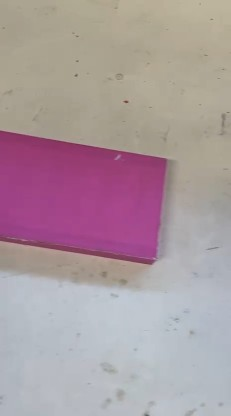pink: (0, 128, 171, 266)
